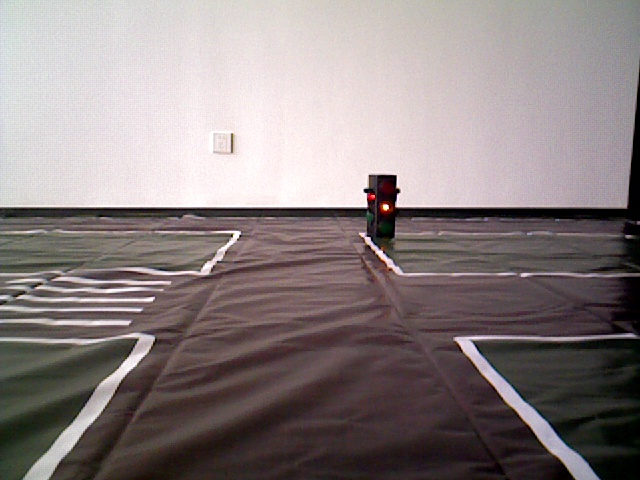yellow: (366, 169, 398, 242)
